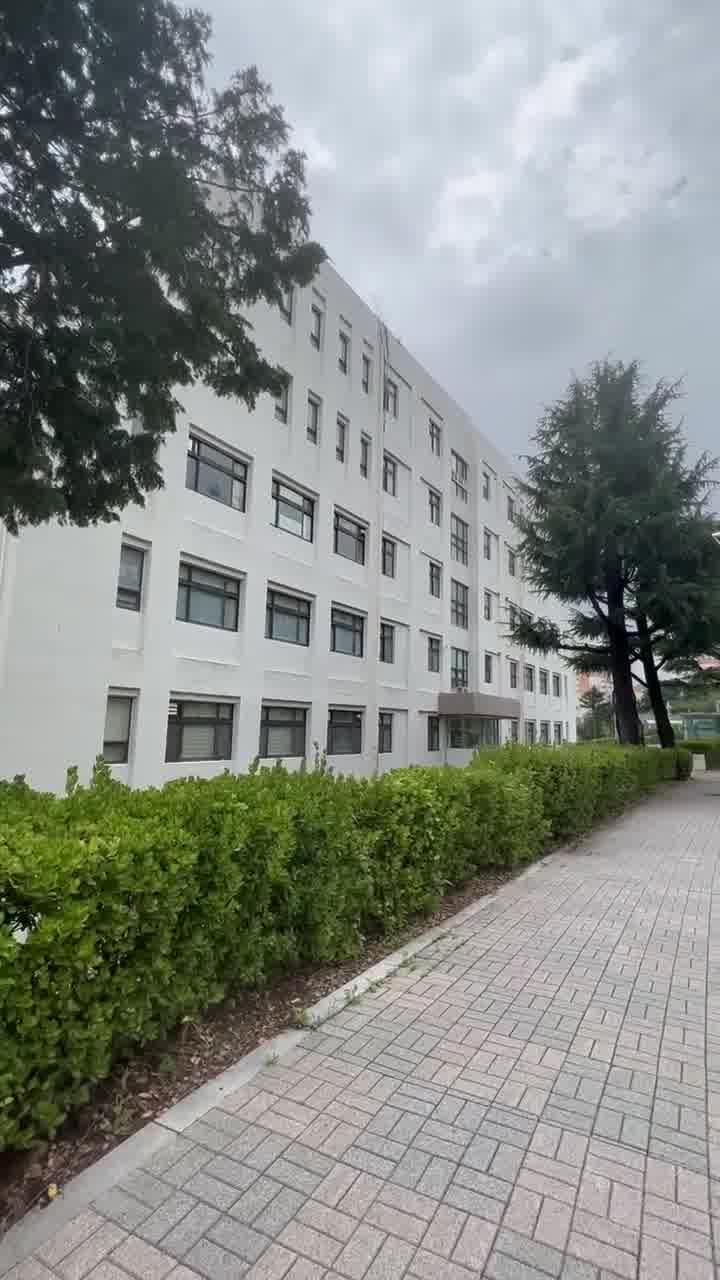building: (256, 304, 490, 734)
